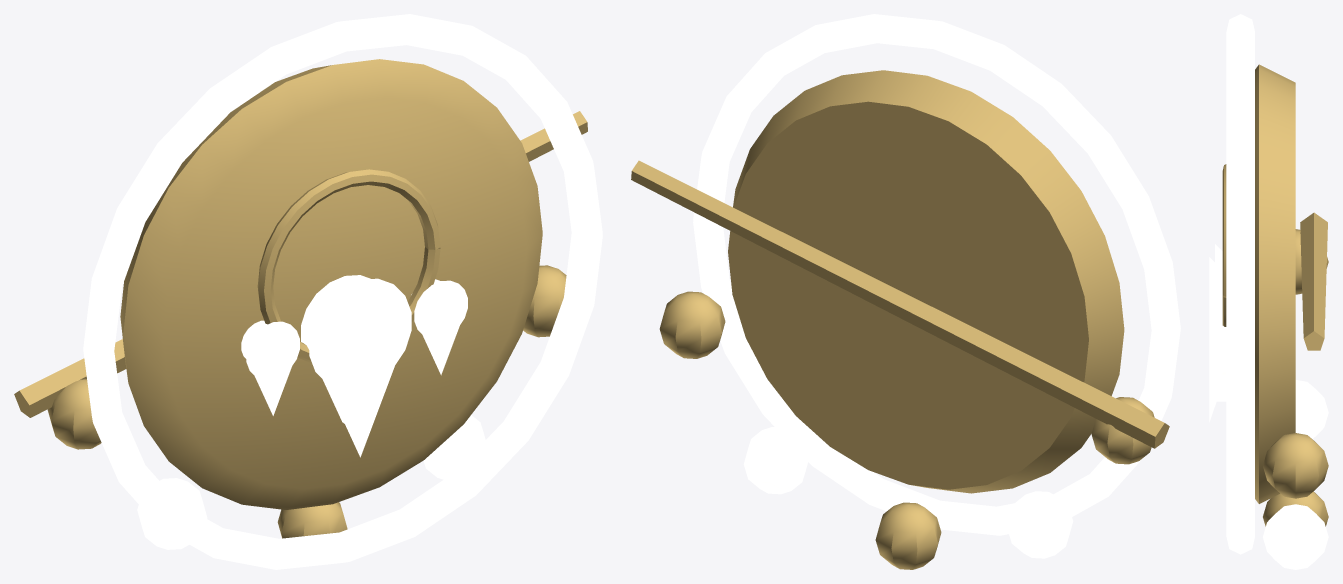
Rendered from asc_sanctified_shade_accessory.glb.
3 renders of one model, left to right at view 1: azimuth 30°, elevation 25°; view 2: azimuth 150°, elevation 25°; view 3: azimuth 270°, elevation 25°, orthographic. The views are drawn at different scales.
Visible parts, largest first — view 1: asc_sanctified_shade_accessory; view 2: asc_sanctified_shade_accessory; view 3: asc_sanctified_shade_accessory.
Boxes of the visible parts, x1,y1,x2,y2 form: asc_sanctified_shade_accessory: (14, 14, 602, 569); asc_sanctified_shade_accessory: (631, 14, 1180, 569); asc_sanctified_shade_accessory: (1209, 14, 1328, 569).
Size of the model in its own units: 0.1616 by 0.153 by 0.0326.
